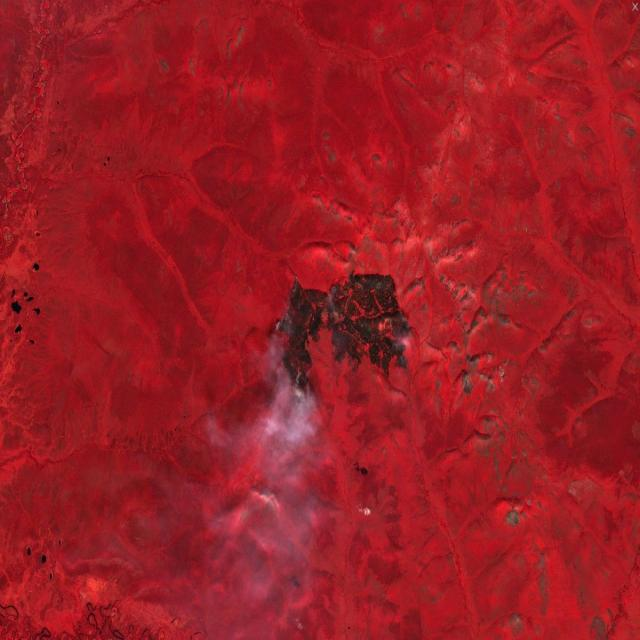fire: (274, 269, 414, 394)
